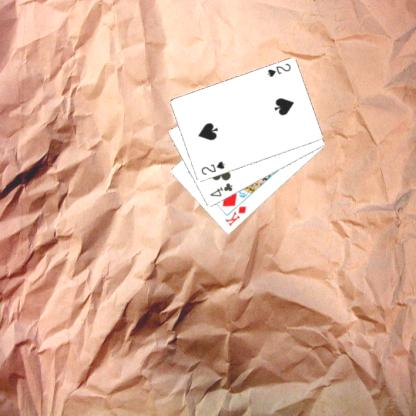2S: (264, 61, 292, 79), (199, 159, 226, 176)
4C: (207, 180, 234, 198)
KD: (222, 204, 248, 228)
